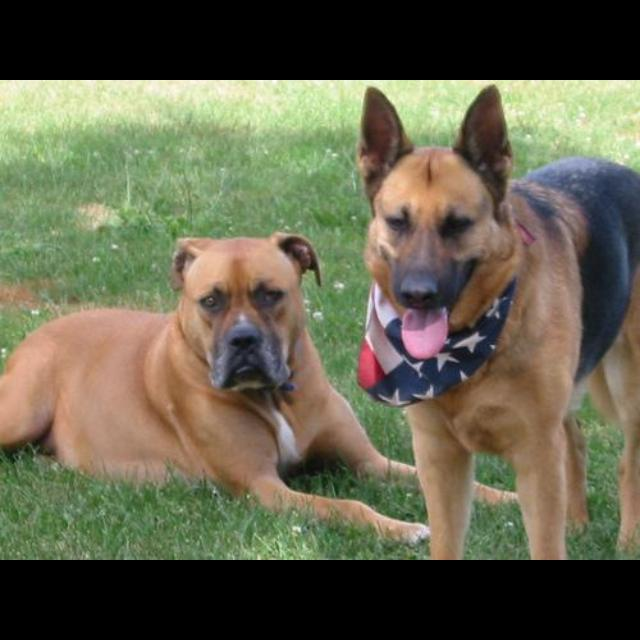bullmastiff: (3, 233, 525, 547)
other_dog_breed: (356, 83, 640, 560)
